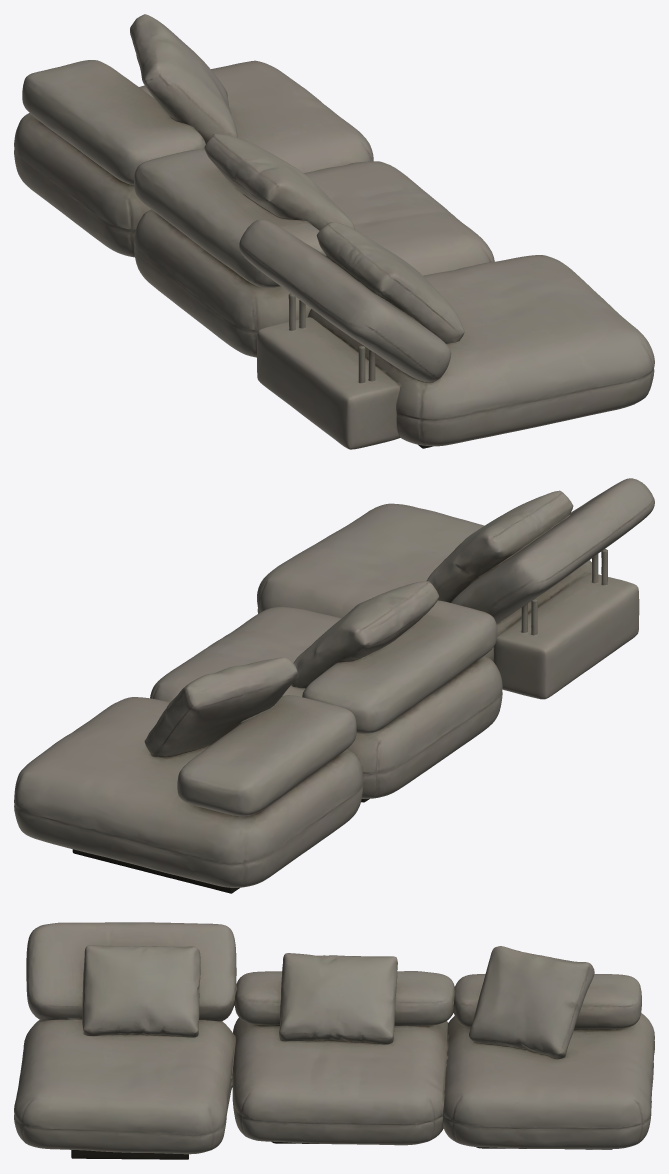
File: m_sofa.glb
3 renders of one model, top to bottom at view 1: azimuth 30°, elevation 25°; view 2: azimuth 150°, elevation 25°; view 3: azimuth 270°, elevation 25°, orthographic. The views are drawn at different scales.
Parts seen in each view (by area): view 1: tripo_node_9451dd9e-6678-460c-be51-2a103548a474; view 2: tripo_node_9451dd9e-6678-460c-be51-2a103548a474; view 3: tripo_node_9451dd9e-6678-460c-be51-2a103548a474.
Boxes of the visible parts, x1,y1,x2,y2 form: tripo_node_9451dd9e-6678-460c-be51-2a103548a474: (14, 14, 654, 449); tripo_node_9451dd9e-6678-460c-be51-2a103548a474: (14, 478, 654, 893); tripo_node_9451dd9e-6678-460c-be51-2a103548a474: (14, 922, 654, 1159).
Bounding box in the file's own units: 0.448 × 0.2539 × 1.
Materials: 1 (1 with a texture image).
